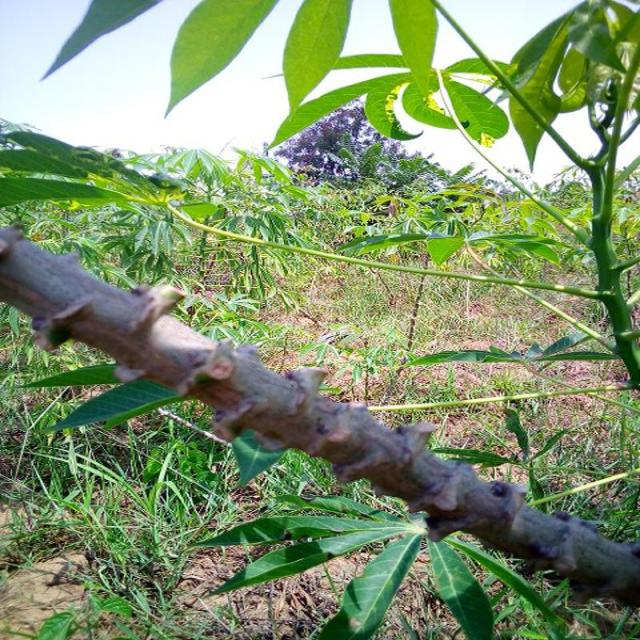cassava leaf: (164, 0, 280, 118)
